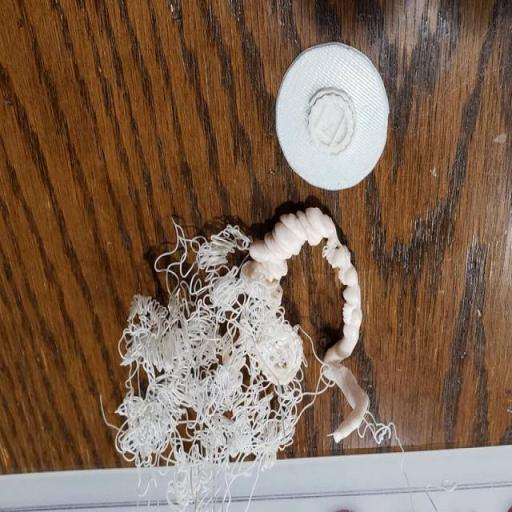spaghetti: (111, 308, 227, 465), (179, 227, 246, 318), (232, 387, 294, 457), (249, 317, 297, 390), (170, 462, 234, 510)
